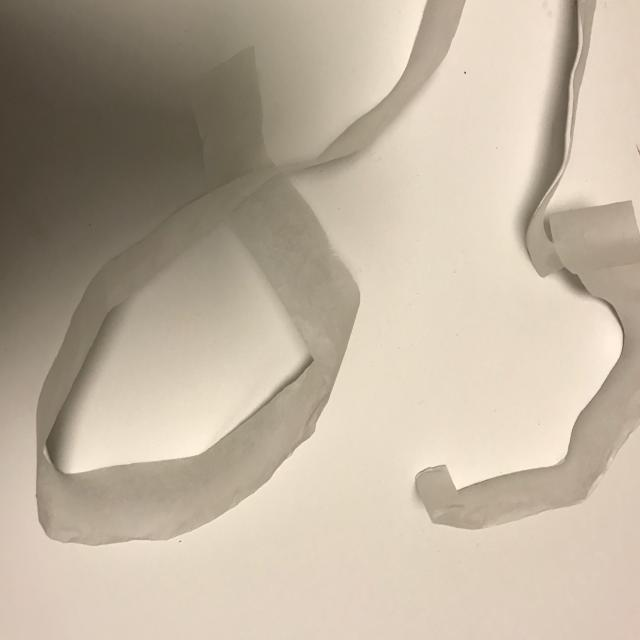trash: (37, 0, 640, 567)
